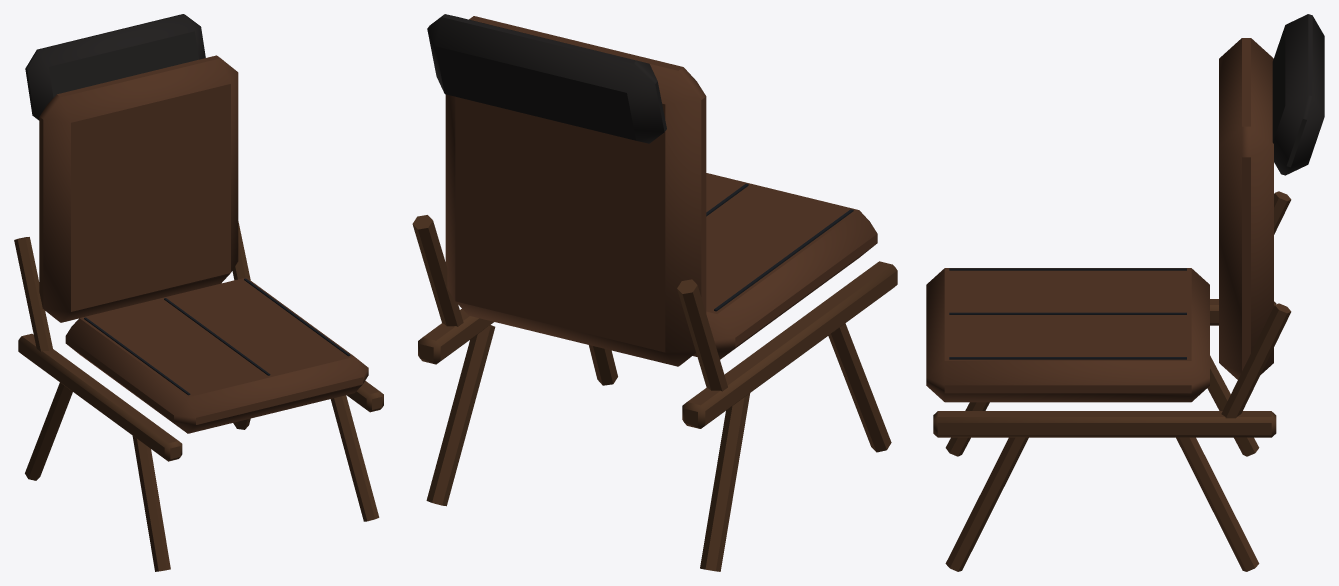
Rendered from chair_lounge_chair.glb.
The picture shows the model from 3 angles, left to right: view 1: azimuth 30°, elevation 25°; view 2: azimuth 150°, elevation 25°; view 3: azimuth 270°, elevation 25°; orthographic projection. The views are drawn at different scales.
Parts seen in each view (by area): view 1: chair_lounge_chair; view 2: chair_lounge_chair; view 3: chair_lounge_chair.
Boxes of the visible parts, x1,y1,x2,y2 form: chair_lounge_chair: [14, 14, 383, 571]; chair_lounge_chair: [412, 14, 897, 571]; chair_lounge_chair: [926, 14, 1324, 571].
Bounding box in the file's own units: 0.6348 × 1.11 × 0.8707.
